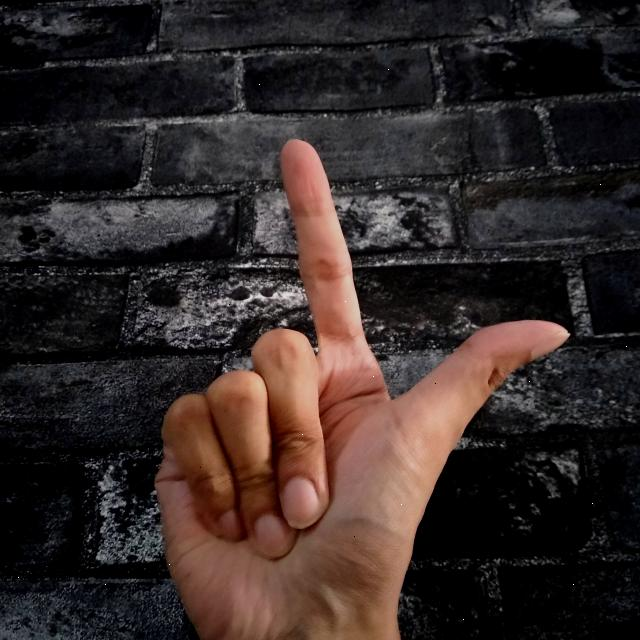L: (144, 131, 580, 640)
